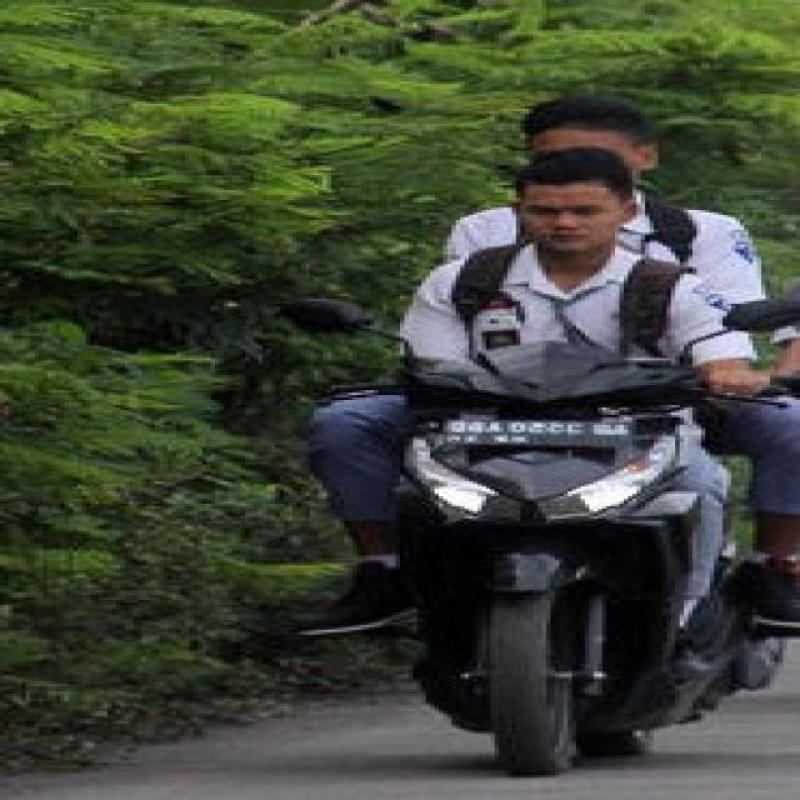nohelmet: (489, 142, 652, 246)
